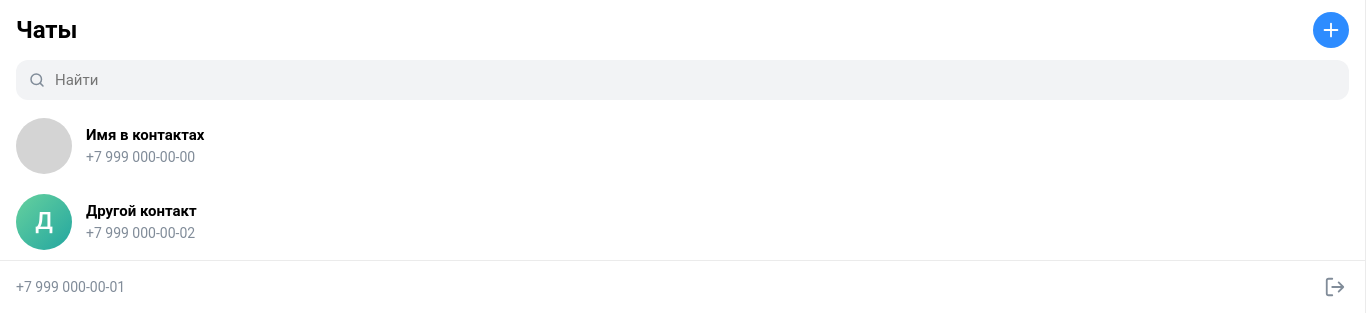
Sidebar › filters chats by the search query
In the search field named "Поиск по чатам": (682, 80) [16,60,1349,100], type "другой"
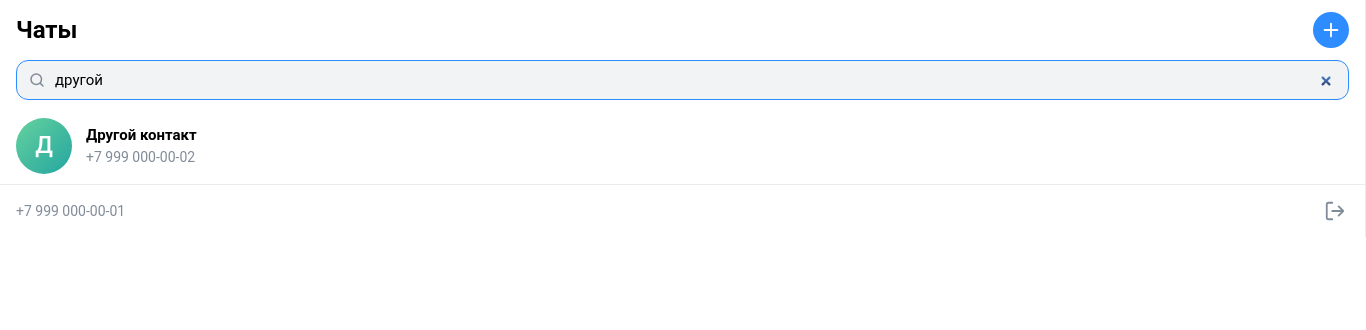
Expected: the button "Д Другой контакт +7 999 000-00-02" is shown, [4,108,1361,184]
Now the button "Имя в контактах" is gone
In the search field named "Поиск по чатам": (682, 80) [16,60,1349,100], type "xyz"
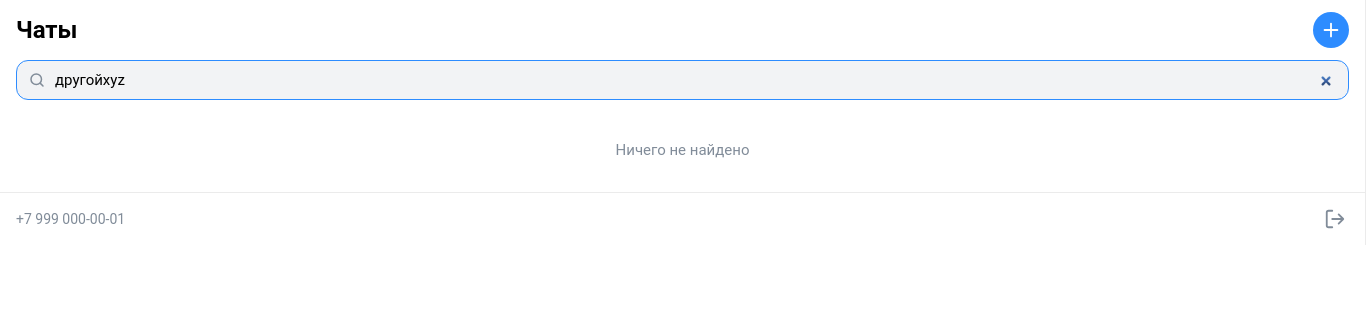
Now the text "Ничего не найдено" is shown, box [616,141,749,159]
